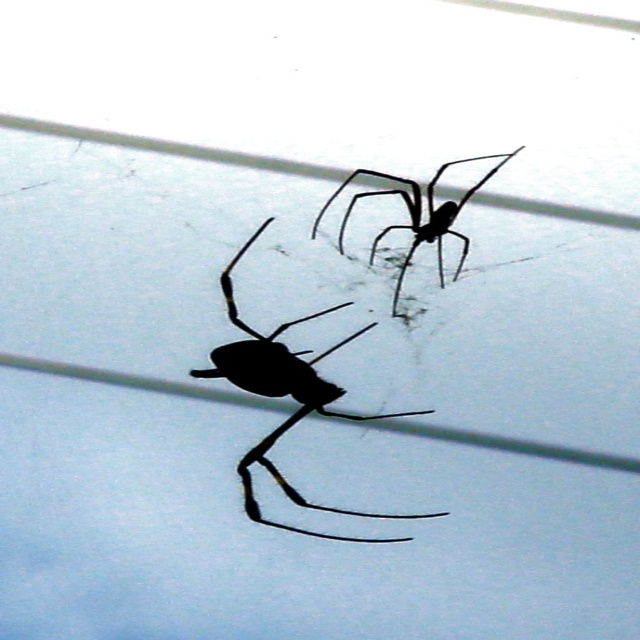Spider: (190, 217, 450, 543), (311, 145, 525, 317)
